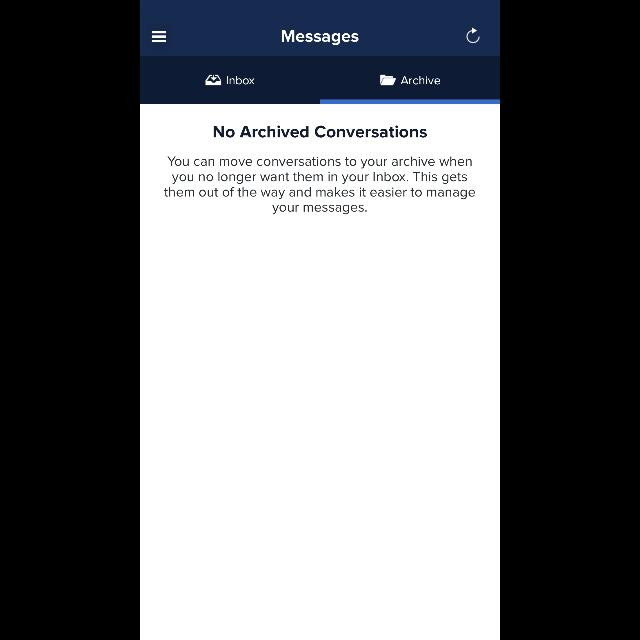icon: (466, 28, 479, 44), (380, 74, 396, 86), (152, 31, 166, 43)
image: (205, 74, 221, 86)
text: (164, 157, 476, 215), (214, 126, 426, 138), (282, 30, 358, 46), (400, 77, 440, 85), (227, 77, 255, 85)
